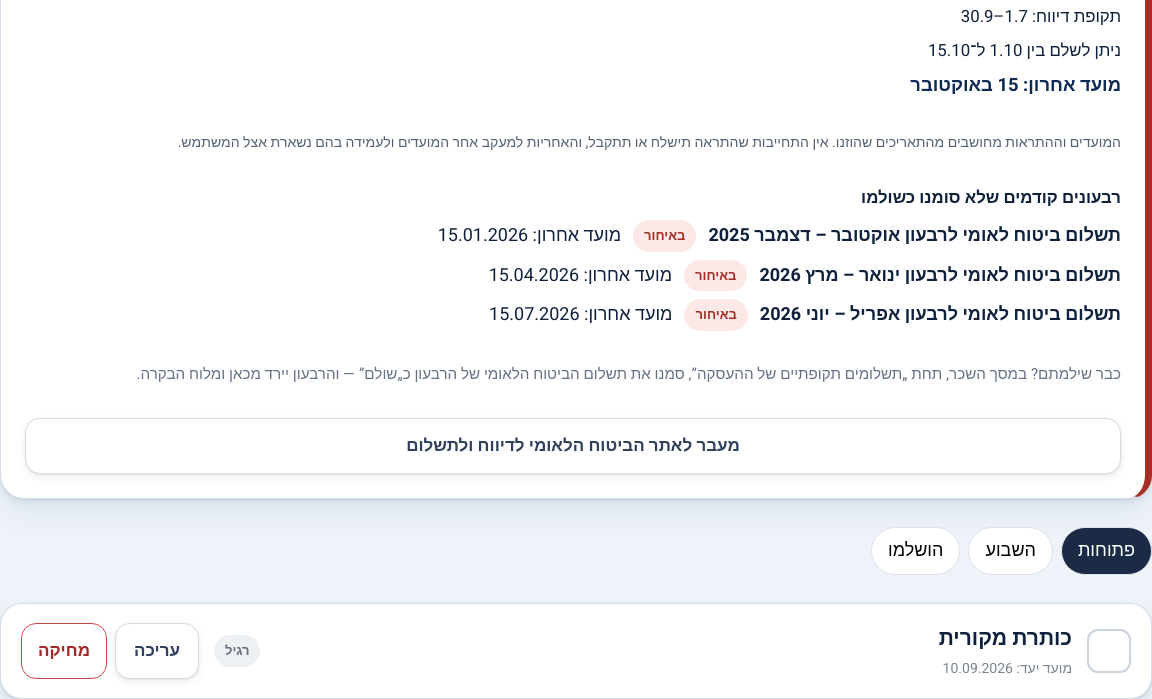
Test: TasksPage sync › an edit to an already-synced task is pushed via updateCaseTask and survives the merge, instead of being silently reverted
(page scrolled)
Expected: the heading "כותרת מקורית" is shown, [939,623,1072,654]
Click the button "עריכה". click: (157, 651)
box: [115,623,199,679]
(page scrolled)
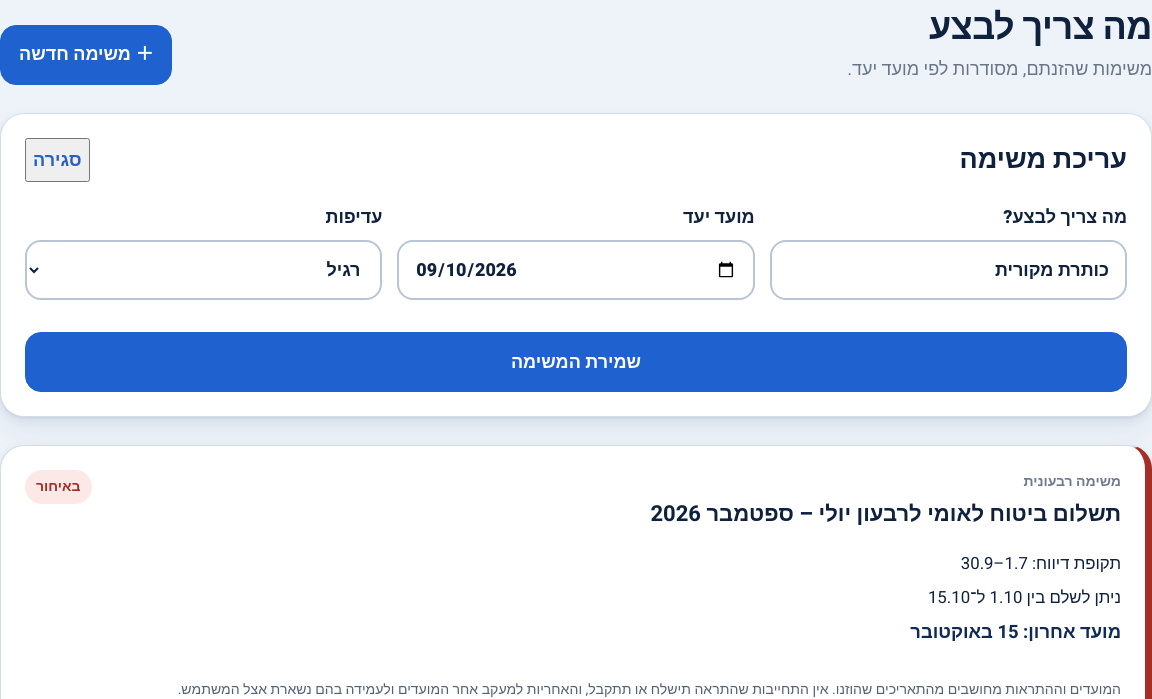
Replace the text in the field labelled "מה צריך לבצע?" with "כותרת מתוקנת". click: (948, 270)
box: [770,240,1127,300]
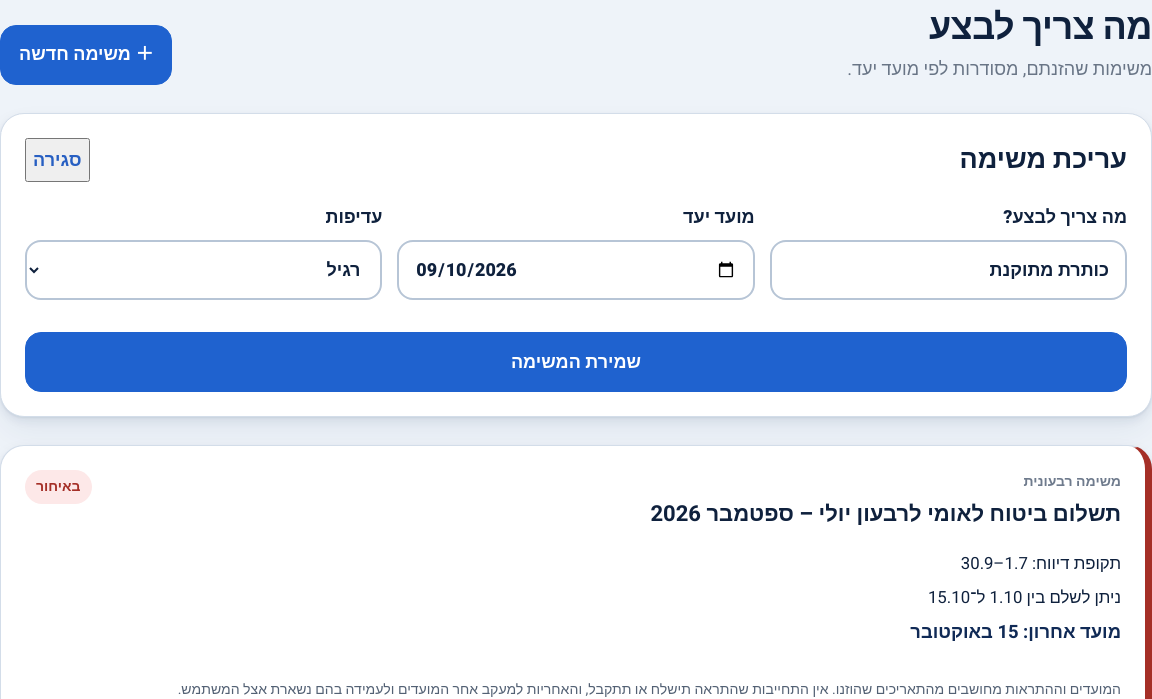
Click the button "שמירת המשימה". click: (576, 362)
box: [25,332,1127,392]
(page scrolled)
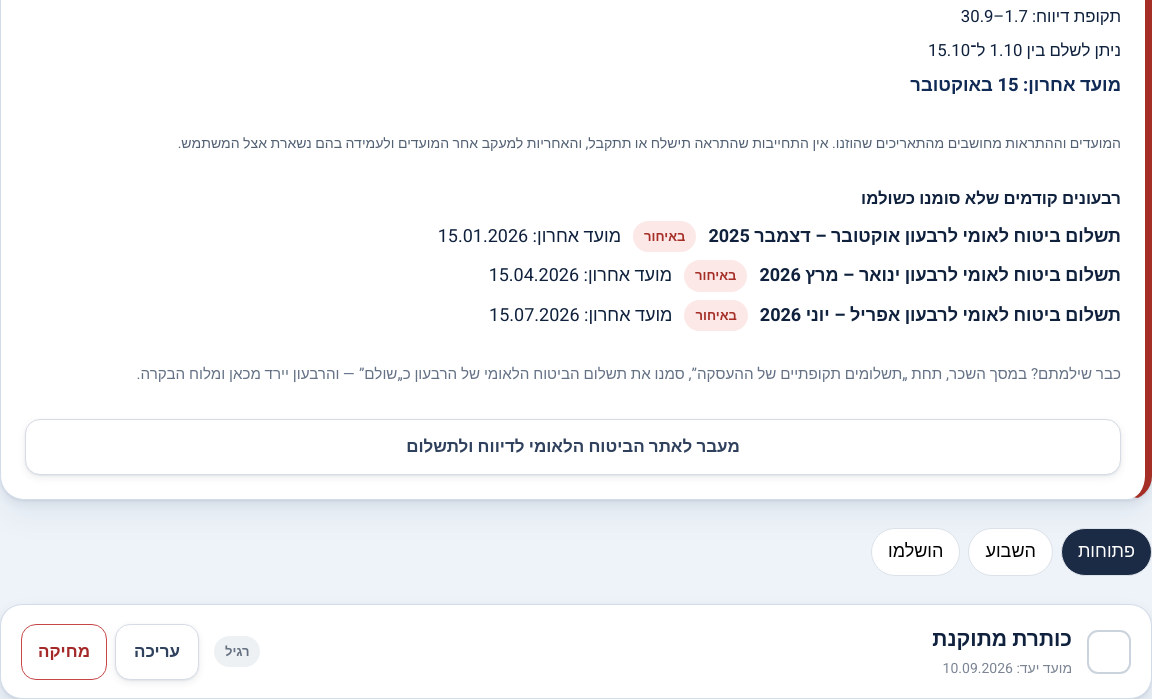
Expected: the heading "כותרת מקורית" is not shown
Result: the heading "כותרת מתוקנת" is shown at [932,624,1072,655]
